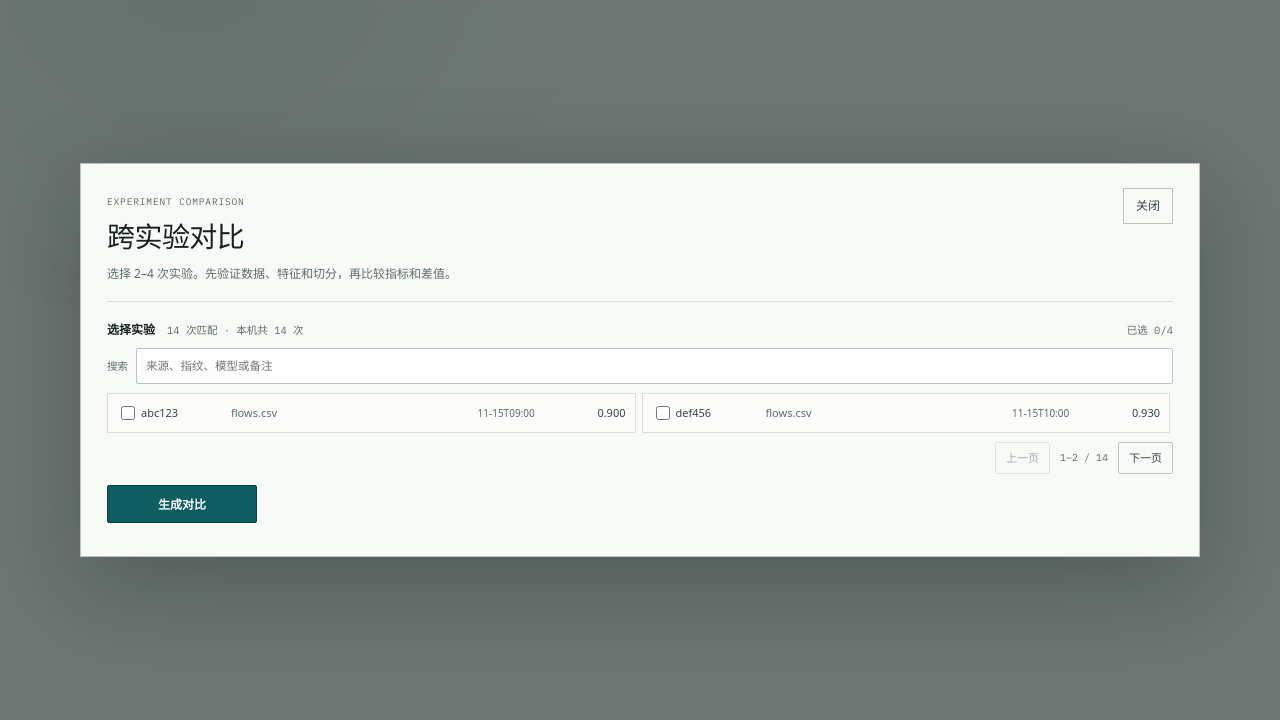
Test: ComparePanel › searches and pages through the complete local history
The width and height of the screenshot is (1280, 720).
Expected: the checkbox named "选择 abc123" is shown, x1=121 y1=406 x2=135 y2=420
Expected: the text "14 次匹配 · 本机共 14 次" is shown, x1=167 y1=322 x2=304 y2=339
Click the button "下一页". click: (1146, 458)
box: x1=1118 y1=442 x2=1173 y2=474
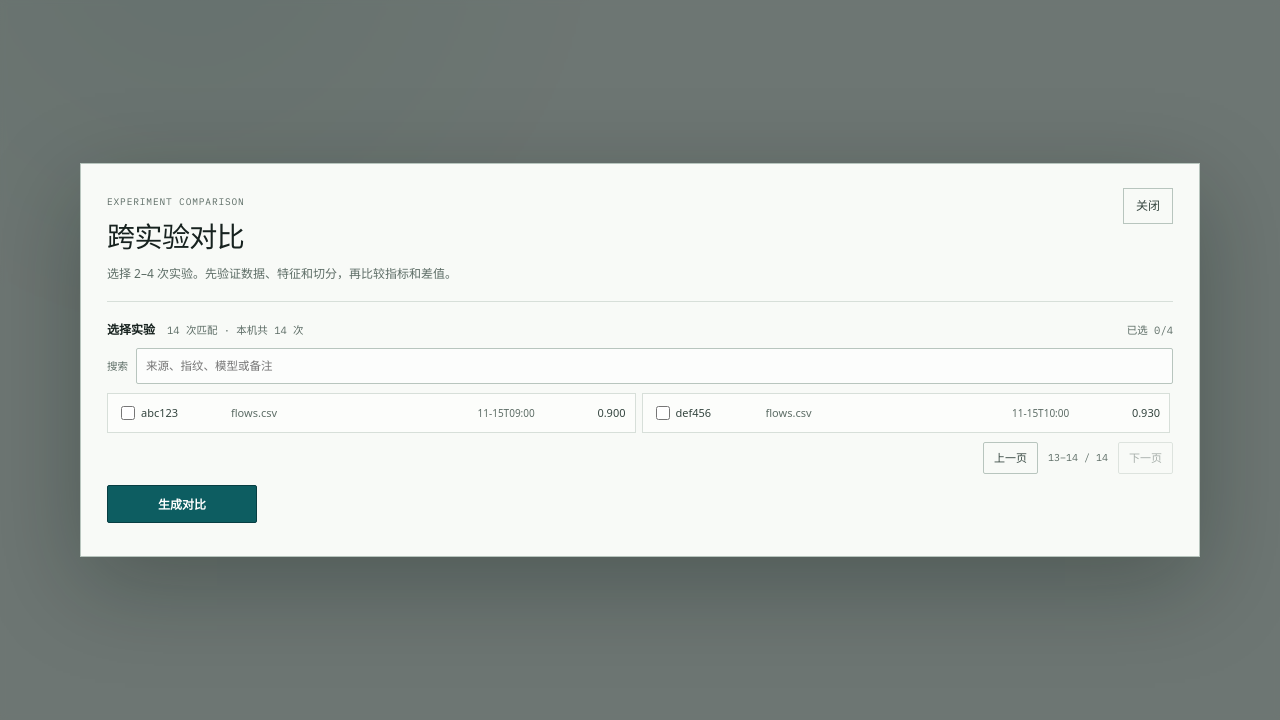
Type "port" into the search field named "搜索可对比实验". click: (654, 366)
box: x1=136 y1=348 x2=1173 y2=384
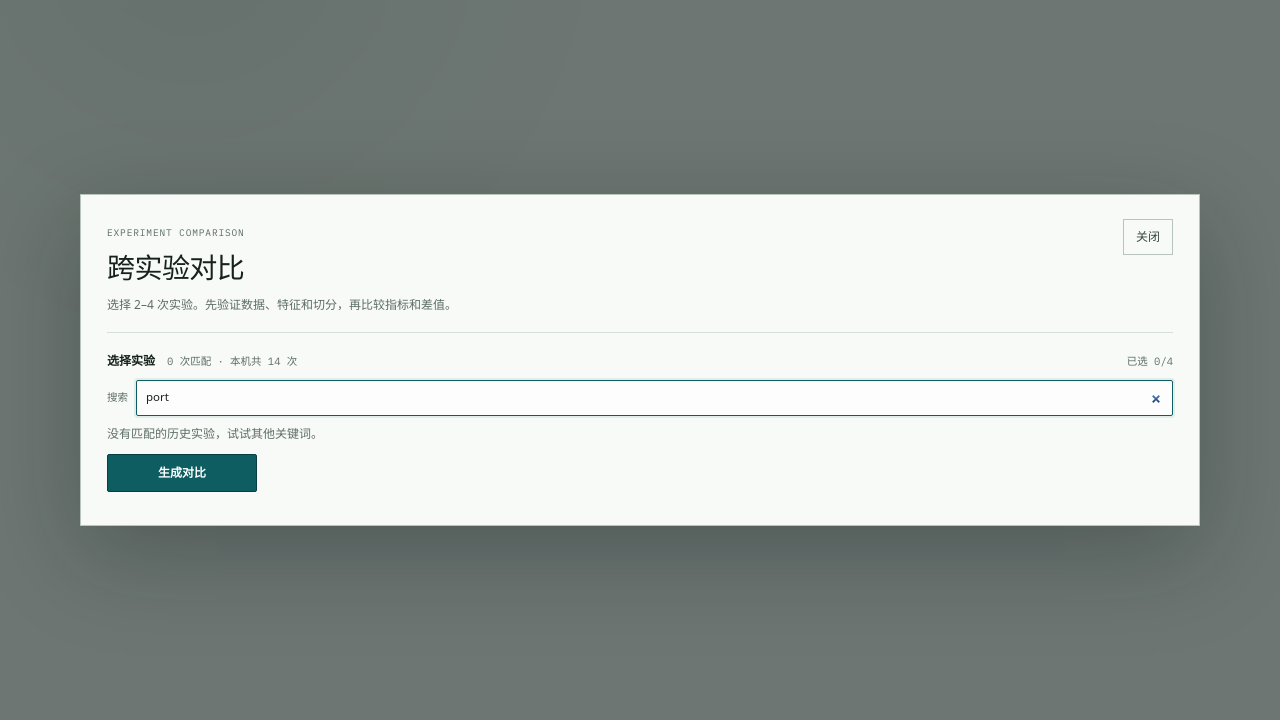
Expected: the text "没有匹配的历史实验，试试其他关键词。" is shown, x1=107 y1=425 x2=323 y2=442
